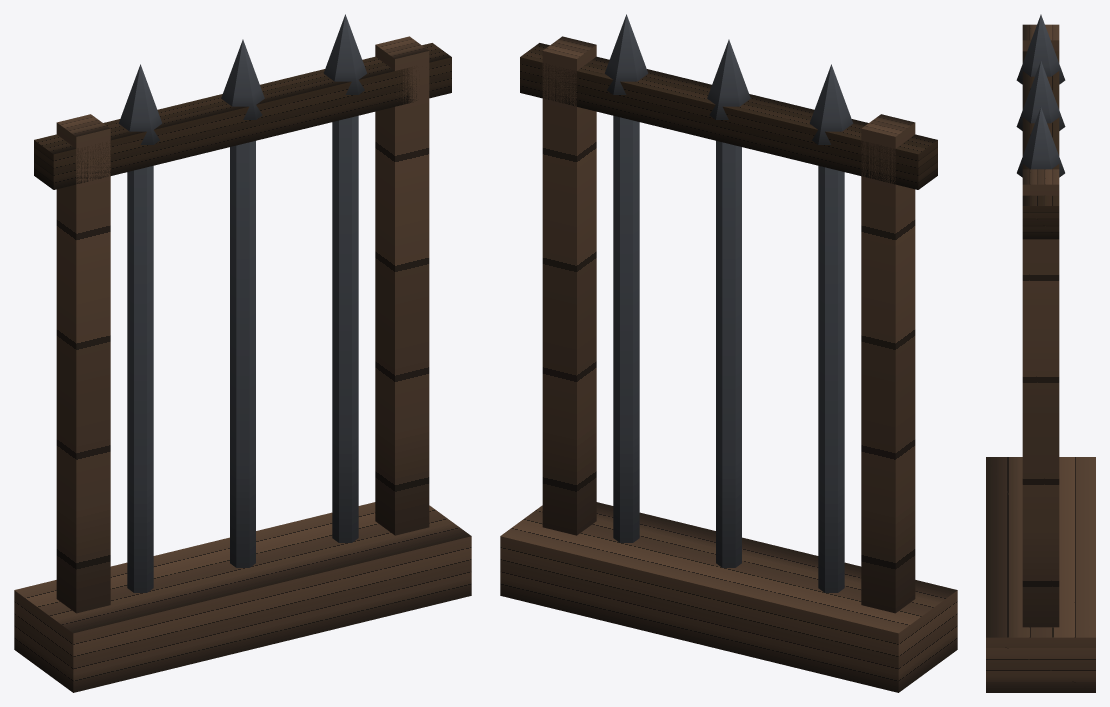
File: weapon_rack.glb
The picture shows the model from 3 angles, left to right: view 1: azimuth 30°, elevation 25°; view 2: azimuth 150°, elevation 25°; view 3: azimuth 270°, elevation 25°; orthographic projection. The views are drawn at different scales.
Visible parts, largest first — view 1: weapon_rack; view 2: weapon_rack; view 3: weapon_rack.
Part boxes in pixels (bbox=[...]): weapon_rack: bbox=[14, 14, 471, 692]; weapon_rack: bbox=[500, 14, 957, 692]; weapon_rack: bbox=[986, 14, 1095, 692].
Bounding box in the file's own units: 0.7 × 0.98 × 0.18.
Materials: 1 (1 with a texture image).
